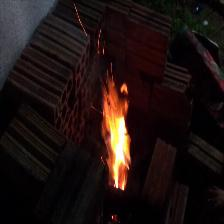fire: (95, 75, 136, 191)
